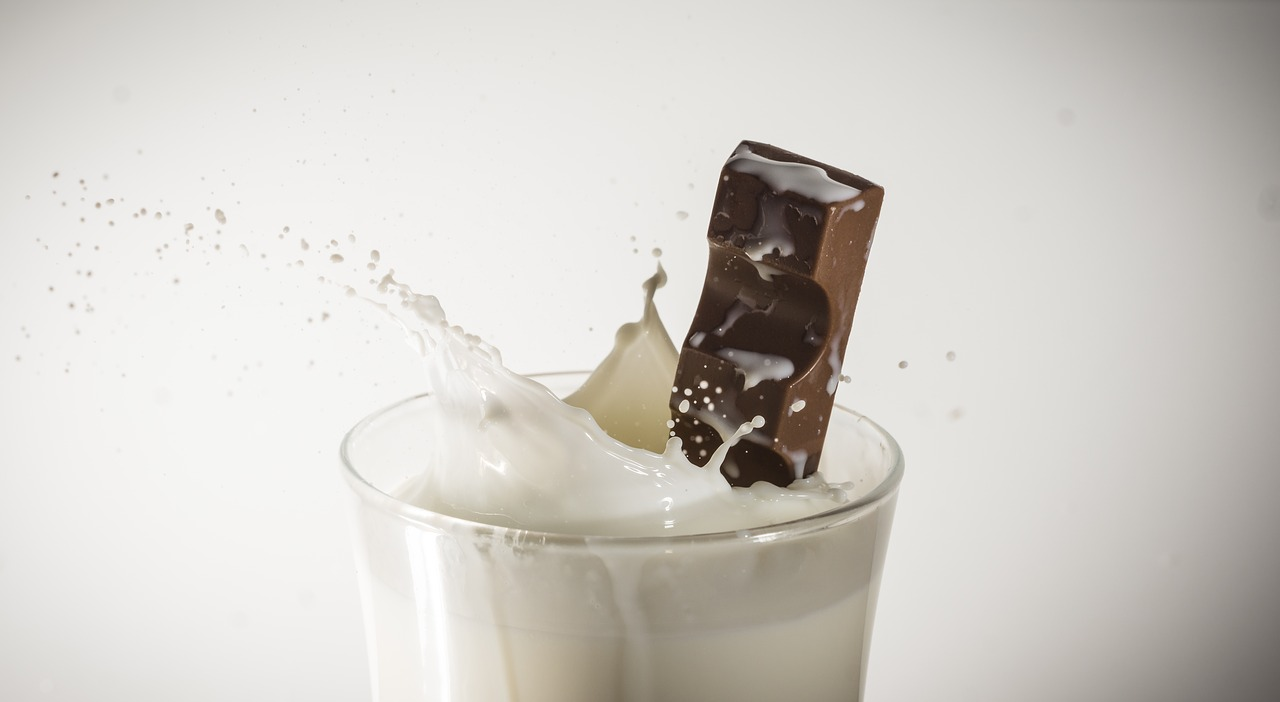glass of milk: (333, 422, 910, 702)
